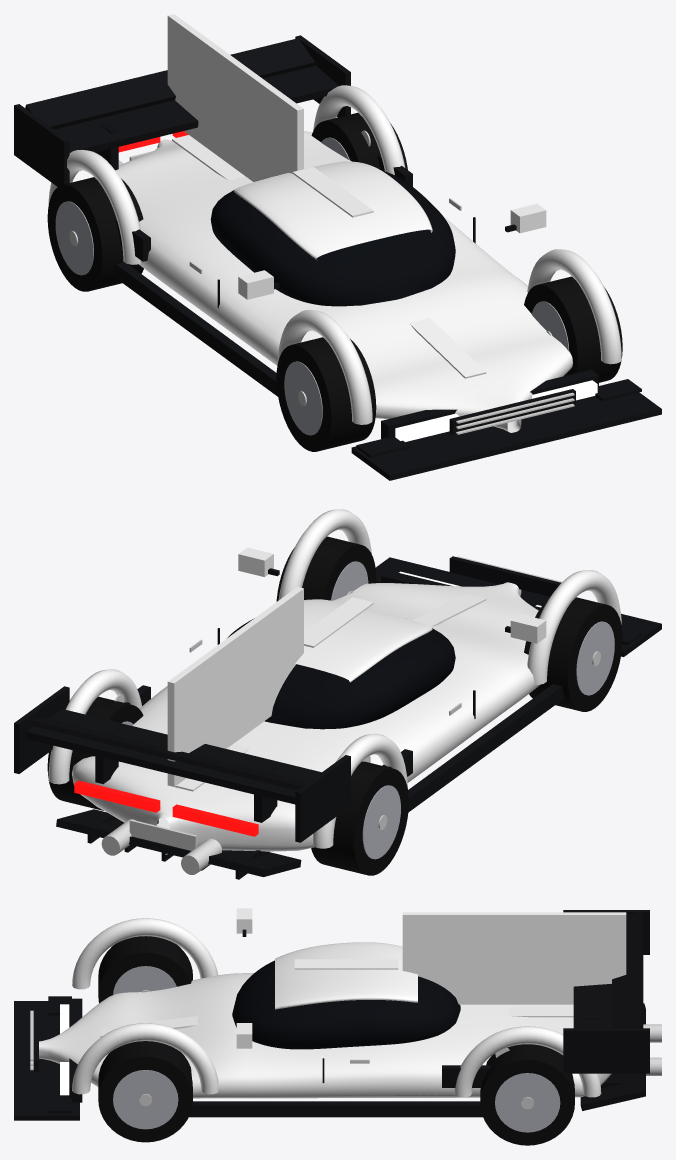
Rendered from car_hyper.glb.
3 renders of one model, top to bottom at view 1: azimuth 30°, elevation 25°; view 2: azimuth 150°, elevation 25°; view 3: azimuth 270°, elevation 25°, orthographic. The views are drawn at different scales.
Parts seen in each view (by area): view 1: body, tire (×4), cabin, fin0, roof, splitter, wing_flap, wing_main, rim (×3), skirtR, flareR1.45, flareL1.45 (+14 smaller); view 2: body, tire (×4), fin0, cabin, wing_main, roof, rim (×3), skirtR, diffuser, wing_flap, flareR1.45, plate_end-1 (+17 smaller); view 3: body, fin0, tire (×3), cabin, rim (×3), roof, skirtL, splitter, plate_end1, flareL1.45, flareR1.45, flareL-1.45 (+12 smaller).
Part boxes in pixels (x1=…): body: x1=115, y1=131, x2=572, y2=432; tire (×4): x1=47, y1=112, x2=622, y2=451; cabin: x1=210, y1=170, x2=455, y2=306; fin0: x1=167, y1=14, x2=303, y2=181; roof: x1=233, y1=161, x2=432, y2=259; splitter: x1=351, y1=392, x2=661, y2=480; wing_flap: x1=25, y1=38, x2=315, y2=129; wing_main: x1=54, y1=65, x2=338, y2=152; rim (×3): x1=55, y1=201, x2=569, y2=435; skirtR: x1=113, y1=262, x2=277, y2=396; flareR1.45: x1=277, y1=310, x2=372, y2=424; flareL1.45: x1=527, y1=249, x2=621, y2=364; body: x1=72, y1=582, x2=540, y2=854; tire (×4): x1=47, y1=536, x2=622, y2=875; fin0: x1=167, y1=587, x2=303, y2=786; cabin: x1=227, y1=618, x2=455, y2=729; wing_main: x1=25, y1=709, x2=321, y2=804; roof: x1=295, y1=599, x2=432, y2=682; rim (×3): x1=331, y1=561, x2=614, y2=859; skirtR: x1=408, y1=684, x2=564, y2=812; diffuser: x1=56, y1=809, x2=301, y2=876; wing_flap: x1=25, y1=717, x2=307, y2=790; flareR1.45: x1=527, y1=570, x2=621, y2=684; plate_end-1: x1=295, y1=755, x2=350, y2=842; body: x1=39, y1=973, x2=611, y2=1098; fin0: x1=402, y1=912, x2=626, y2=1004; tire (×3): x1=98, y1=936, x2=574, y2=1145; cabin: x1=232, y1=960, x2=460, y2=1049; rim (×3): x1=113, y1=966, x2=560, y2=1132; roof: x1=275, y1=942, x2=417, y2=1009; skirtL: x1=189, y1=1101, x2=482, y2=1117; splitter: x1=14, y1=1001, x2=79, y2=1120; plate_end1: x1=563, y1=1028, x2=649, y2=1073; flareL1.45: x1=72, y1=1023, x2=218, y2=1094; flareR1.45: x1=72, y1=918, x2=218, y2=989; flareL-1.45: x1=454, y1=1026, x2=601, y2=1097.
Bounding box in the file's own units: 2.35 × 1.4 × 4.92.
